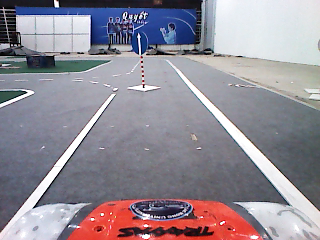straight: (129, 30, 150, 56)
